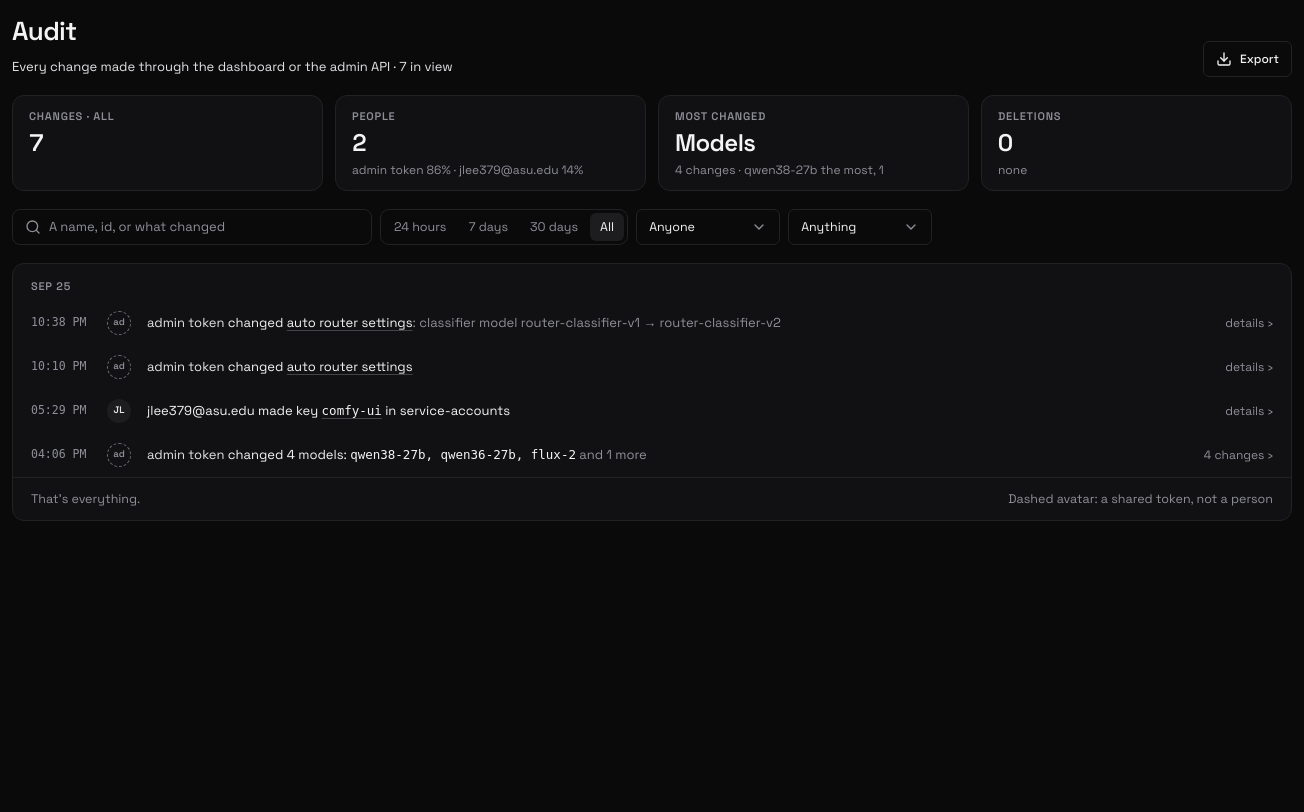
it: the audit log › reads as sentences, folds bursts, and shows what a change changed
This screenshot has width=1304, height=812.
Expected: the element named "Changes" shows "jlee379@asu.edu made key comfy-ui in service-accounts", 12,263 -> 1292,521
Expected: the element named "Changes" shows "classifier model router-classifier-v1 → router-classifier-v2", 419,314 -> 781,331
Step 1. Click the button "4 changes ›" → point(1218, 454), box 1163,446 -> 1273,462
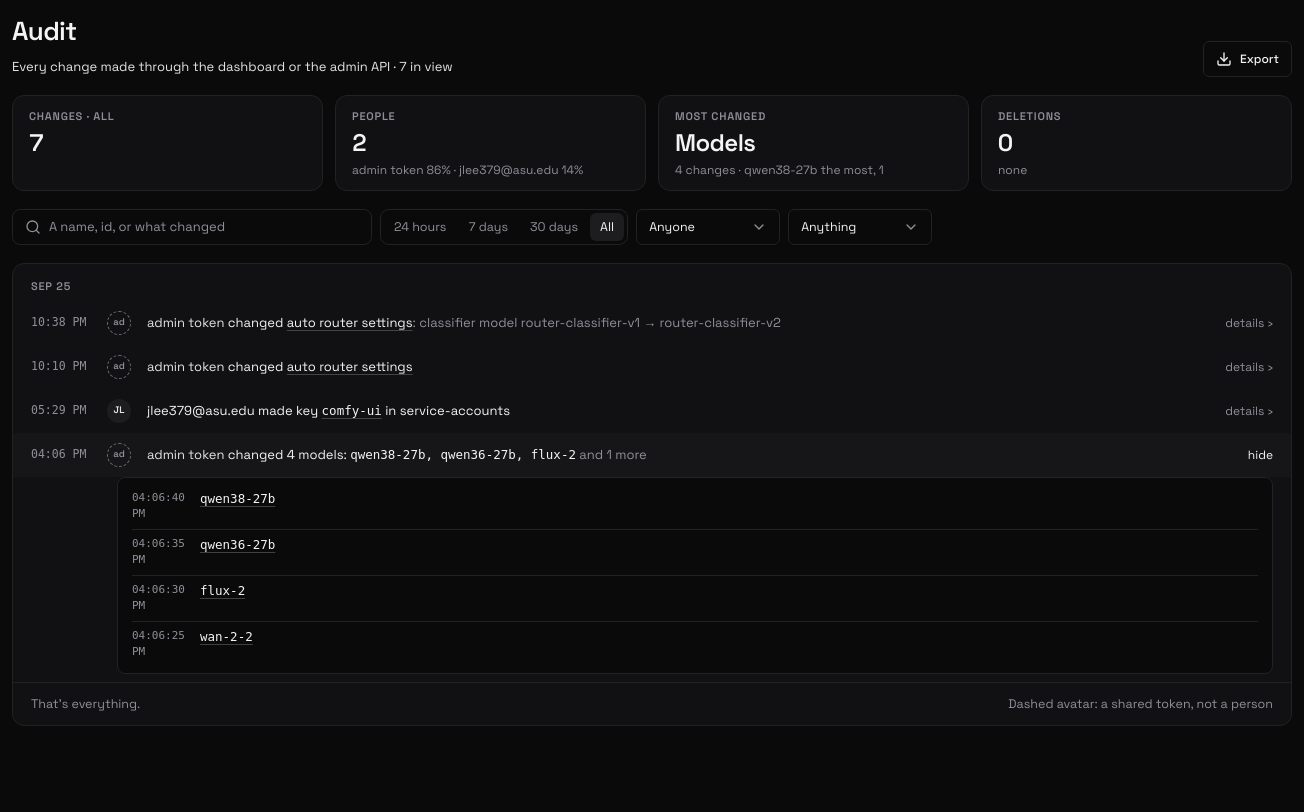
Now the element named "Changes" shows "wan-2-2", box 200,628 -> 253,644
